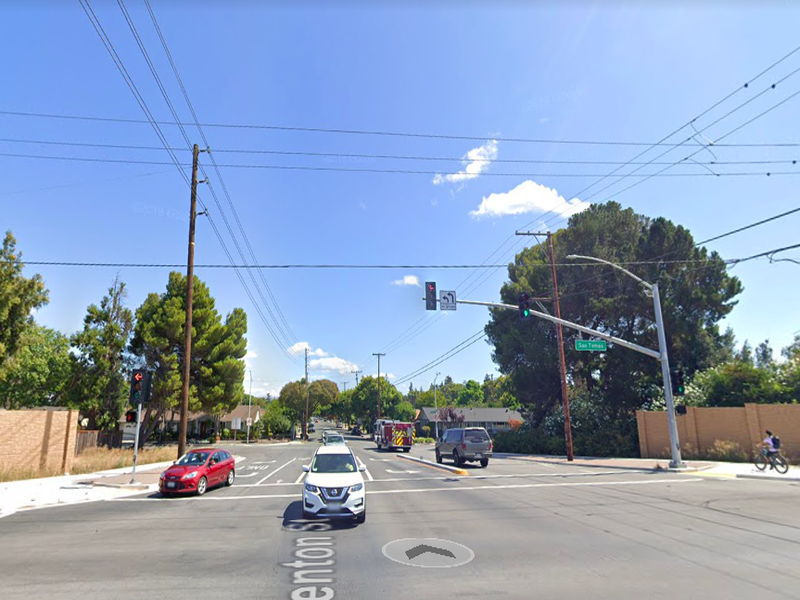utility_pole: (173, 134, 218, 233), (508, 221, 562, 260)
